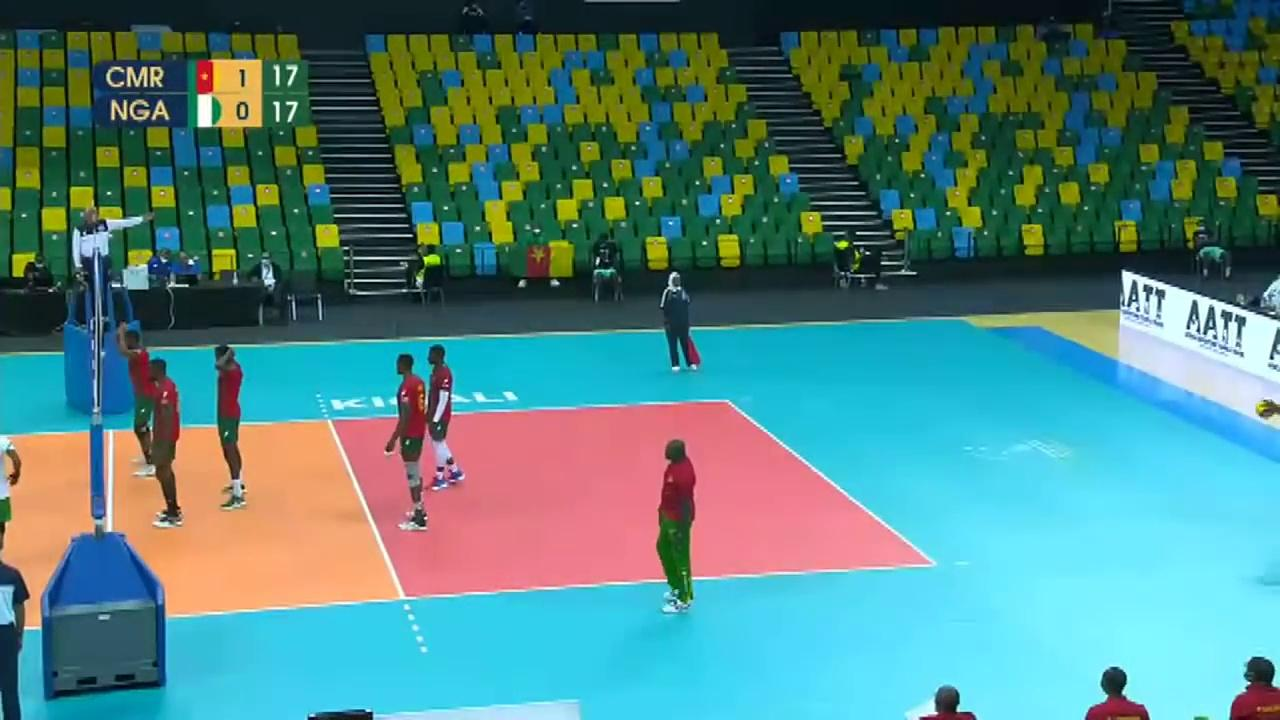player: (386, 351, 436, 532), (146, 358, 189, 527), (212, 345, 249, 511), (119, 326, 156, 474), (424, 344, 461, 488), (0, 415, 22, 566)
refree: (73, 207, 140, 324), (0, 538, 30, 720), (659, 272, 699, 372)
